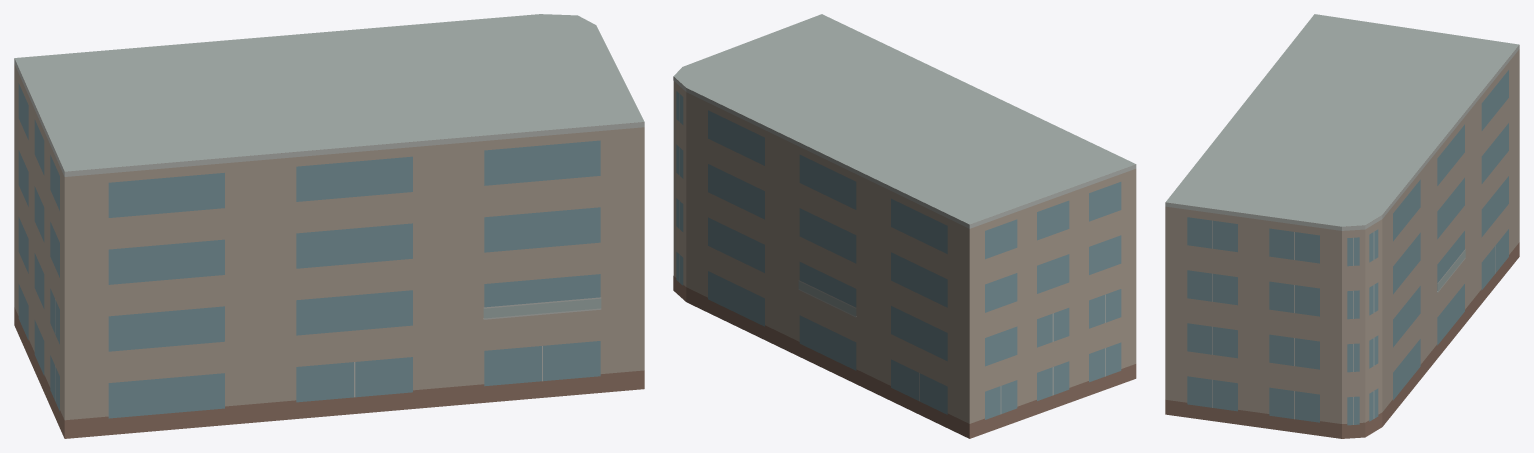
Rendered from survey-upis-32827555.glb.
3 renders of one model, left to right at view 1: azimuth 30°, elevation 25°; view 2: azimuth 150°, elevation 25°; view 3: azimuth 270°, elevation 25°, orthographic. The views are drawn at different scales.
Visible parts, largest first — view 1: survey-upis-32827555.tmp; view 2: survey-upis-32827555.tmp; view 3: survey-upis-32827555.tmp.
Boxes of the visible parts, x1,y1,x2,y2 form: survey-upis-32827555.tmp: [14, 14, 644, 438]; survey-upis-32827555.tmp: [673, 14, 1136, 438]; survey-upis-32827555.tmp: [1165, 14, 1519, 438].
Bounding box in the file's own units: 26.24 × 12.2 × 18.46.
